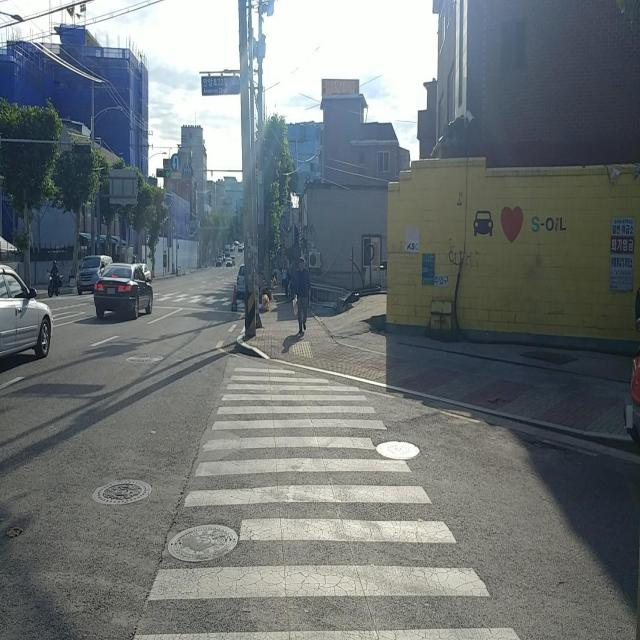횡단보도: (129, 359, 522, 640), (152, 288, 252, 309)
